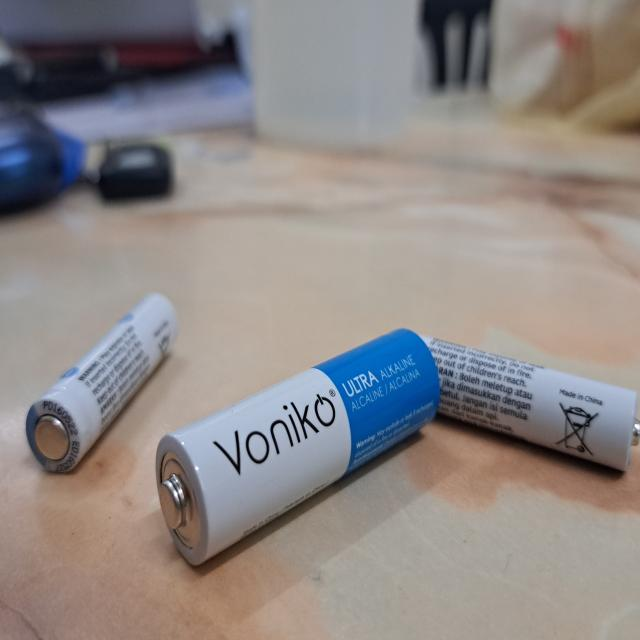battery: (158, 326, 442, 572), (421, 329, 640, 479), (26, 292, 182, 471)
